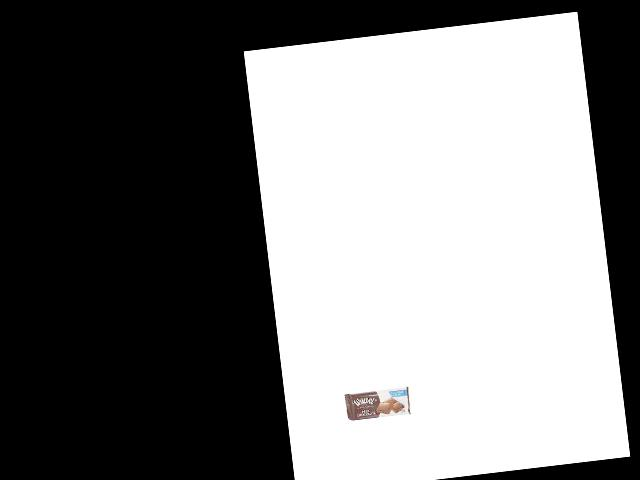chocolate: (345, 385, 412, 422)
